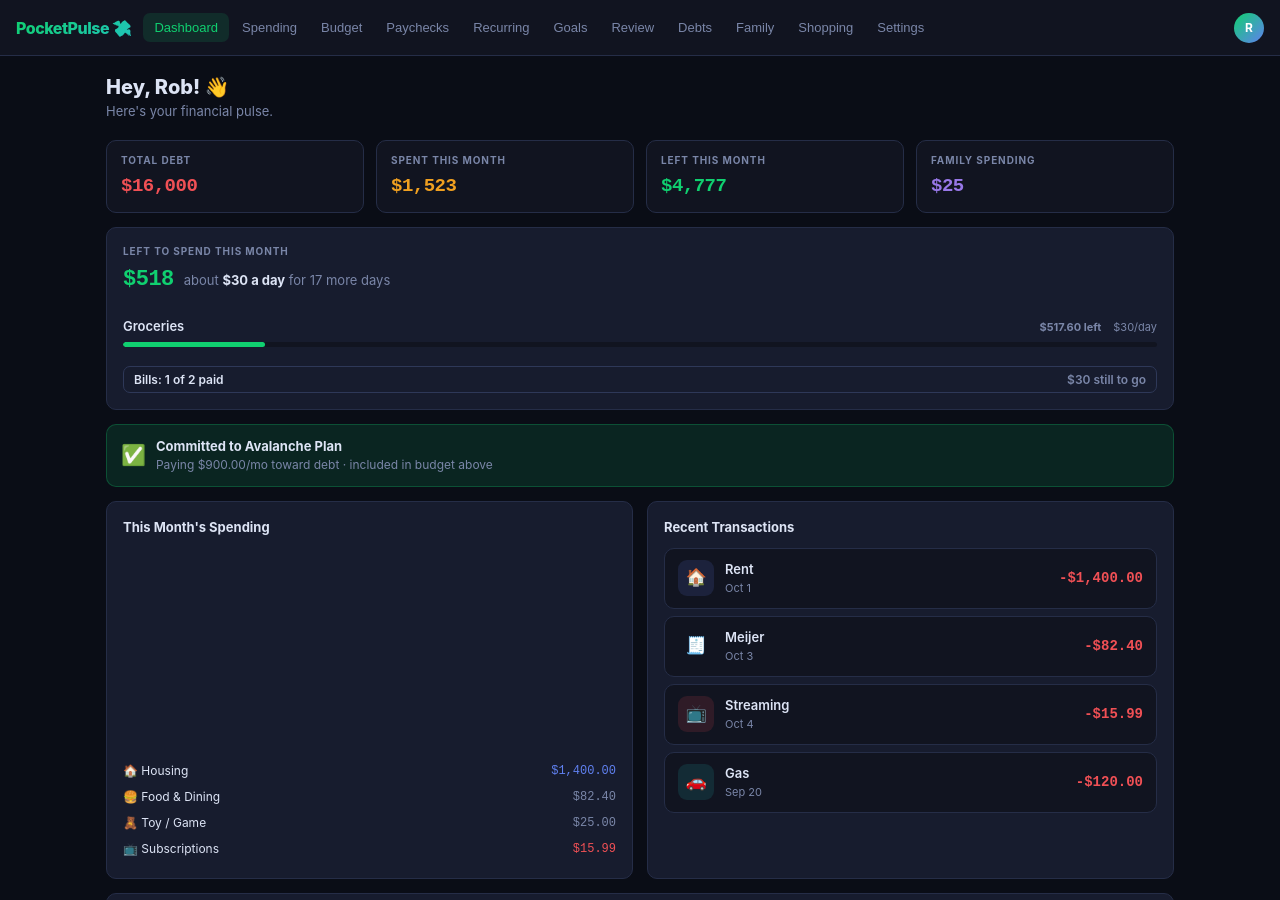
Test: every screen renders with real-shaped data › Home shows what is left to spend and the bills
Expected: the element labelled "Left to spend" shows "Left to spend this month", x1=123 y1=245 x2=289 y2=257
Expected: the element labelled "Left to spend" shows "Groceries", x1=123 y1=318 x2=184 y2=334
Click the button "Bills: 1 of 2 paid $30 still to go" at x=149, y=379, box x1=123 y1=366 x2=1157 y2=392
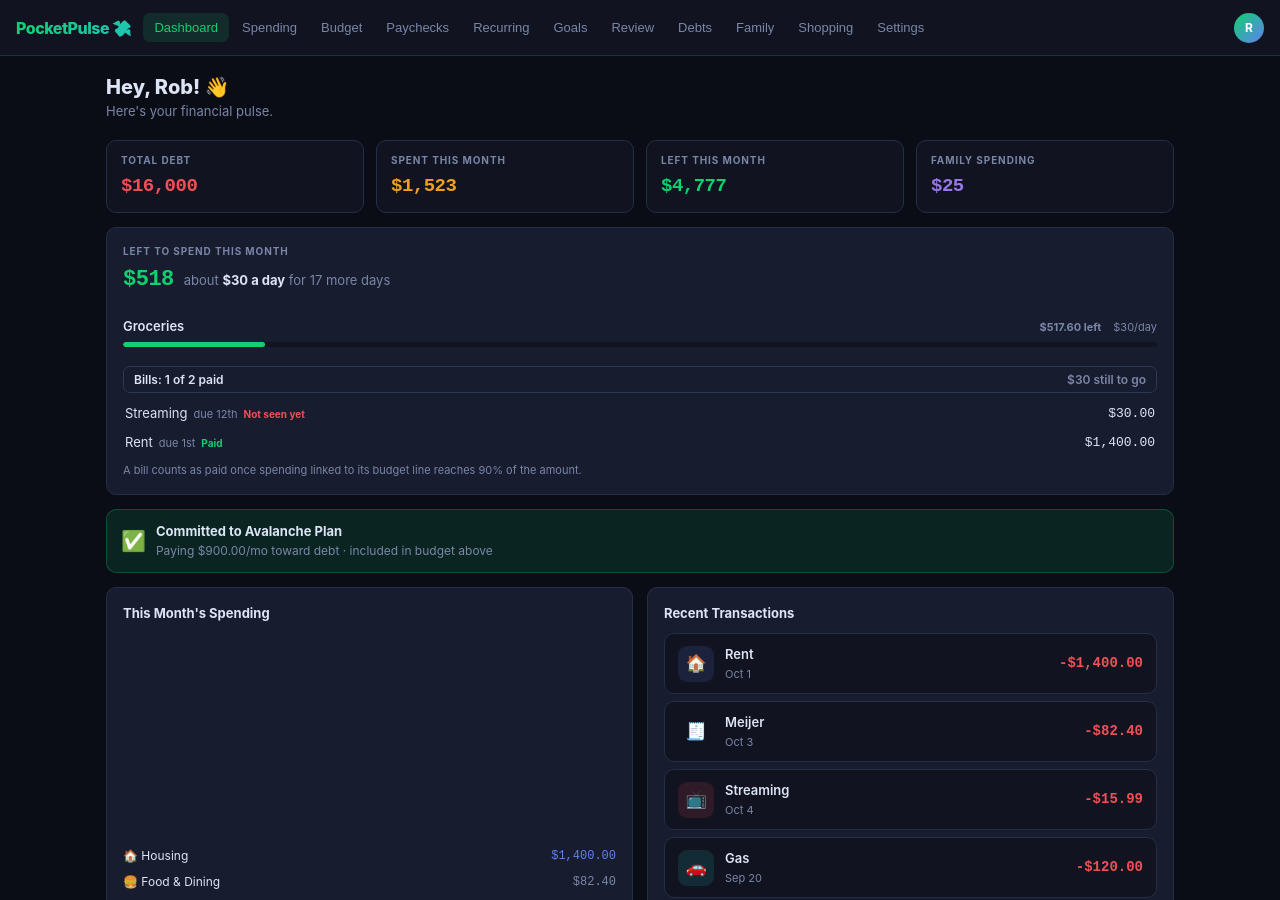
Now the element labelled "Left to spend" shows "Rent", box x1=125 y1=434 x2=153 y2=450
